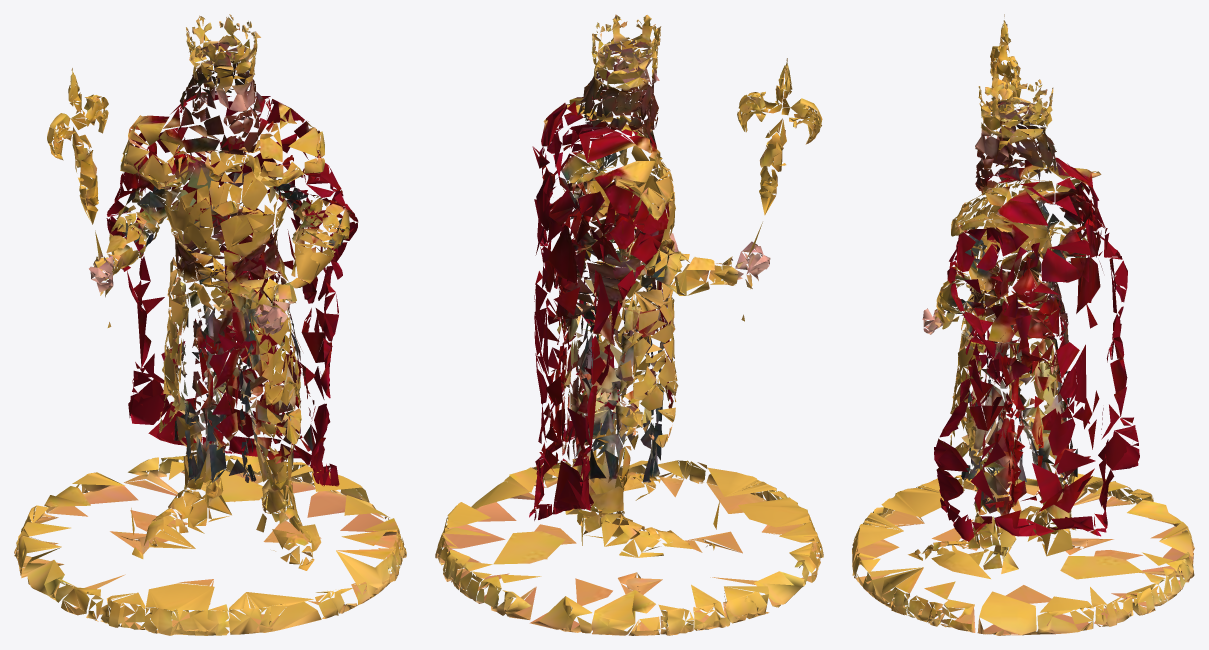
File: king.glb
3 renders of one model, left to right at view 1: azimuth 30°, elevation 25°; view 2: azimuth 150°, elevation 25°; view 3: azimuth 270°, elevation 25°, orthographic. The views are drawn at different scales.
Visible parts, largest first — view 1: Mesh_0; view 2: Mesh_0; view 3: Mesh_0.
Boxes of the visible parts, x1,y1,x2,y2 form: Mesh_0: [14, 14, 406, 635]; Mesh_0: [435, 14, 823, 635]; Mesh_0: [852, 14, 1194, 635].
Size of the model in its own units: 0.6809 by 0.9978 by 0.6423.
1 material, 1 textured.
